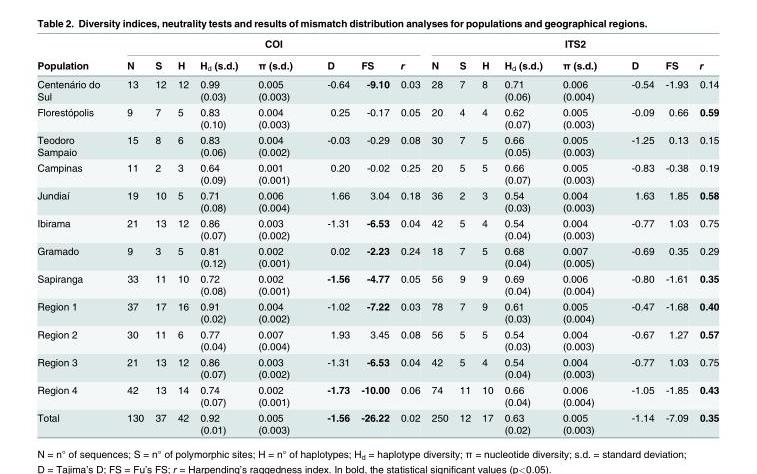table: (36, 37, 718, 434)
table column: (36, 37, 112, 434), (247, 37, 309, 434), (551, 37, 613, 434), (193, 37, 247, 434), (498, 37, 551, 434), (613, 37, 659, 434), (309, 37, 354, 434), (354, 37, 394, 434), (112, 37, 148, 434), (659, 37, 693, 434), (394, 37, 425, 434), (425, 37, 453, 434), (693, 37, 718, 434), (148, 37, 171, 434), (475, 37, 498, 434), (171, 37, 193, 434), (453, 37, 475, 434)
table column header: (36, 37, 718, 74)
table row: (36, 74, 718, 103), (36, 103, 718, 131), (36, 131, 718, 159), (36, 186, 718, 214), (36, 214, 718, 242), (36, 242, 718, 270), (36, 297, 718, 325), (36, 325, 718, 353), (36, 353, 718, 381), (36, 381, 718, 409), (36, 159, 718, 186), (36, 270, 718, 297), (36, 409, 718, 434), (36, 53, 718, 74), (36, 37, 718, 53)
table spanning cell: (112, 37, 425, 53), (425, 37, 718, 53), (36, 37, 112, 74)
